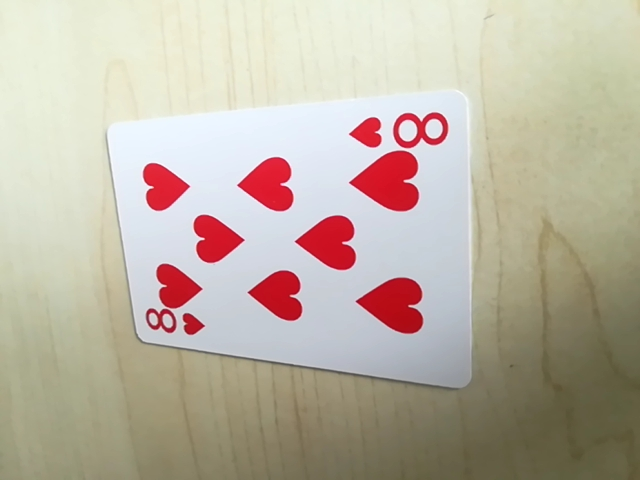hx 8: (349, 100, 455, 154), (141, 306, 207, 342)
